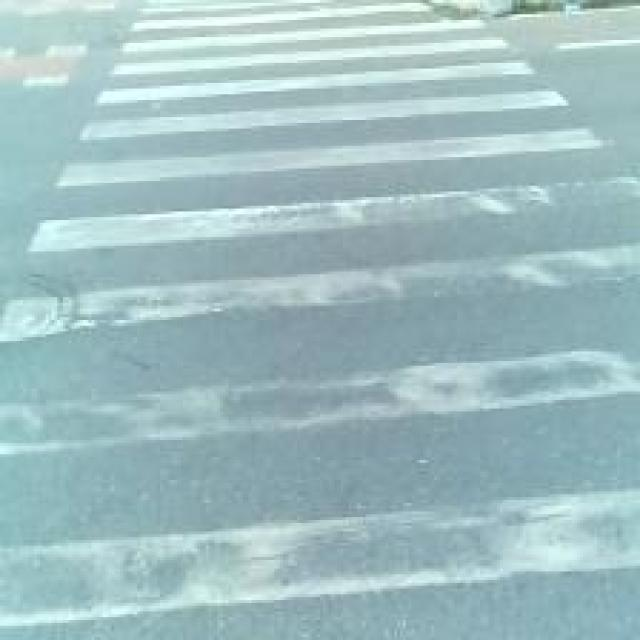walk-crossing: (57, 103, 420, 640)
